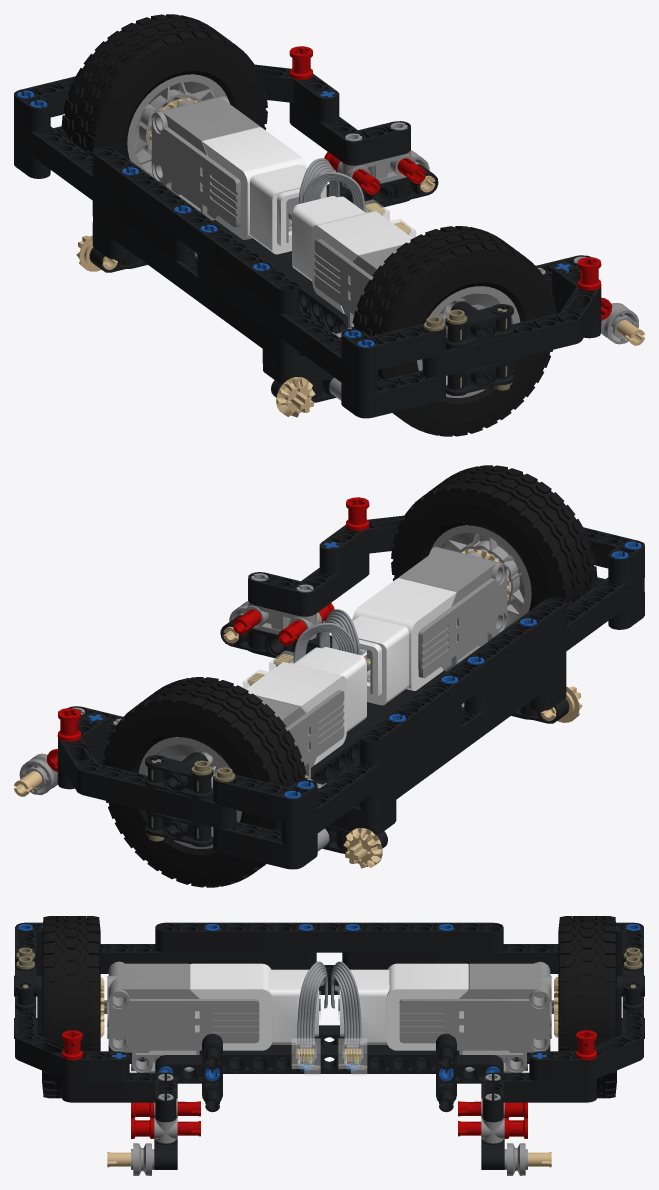
Rendered from scene_drive_base.glb.
3 renders of one model, top to bottom at view 1: azimuth 30°, elevation 25°; view 2: azimuth 150°, elevation 25°; view 3: azimuth 270°, elevation 25°, orthographic. The views are drawn at different scales.
Parts seen in each view (by area): view 1: ldraw_wrobot.ldr_16, lego_drive_base_0_wheel_0, lego_drive_base_0_wheel_1, lego_drive_base_cable_motor_m3, lego_drive_base_cable_motor_m2; view 2: ldraw_wrobot.ldr_16, lego_drive_base_0_wheel_1, lego_drive_base_0_wheel_0, lego_drive_base_cable_motor_m2, lego_drive_base_cable_motor_m3; view 3: ldraw_wrobot.ldr_16, lego_drive_base_0_wheel_0, lego_drive_base_0_wheel_1, lego_drive_base_cable_motor_m2, lego_drive_base_cable_motor_m3, lego_drive_base_plug_motor_m3, lego_drive_base_plug_motor_m2.
Boxes of the visible parts, x1,y1,x2,y2 form: ldraw_wrobot.ldr_16: [14, 46, 644, 418]; lego_drive_base_0_wheel_0: [351, 226, 556, 436]; lego_drive_base_0_wheel_1: [61, 14, 267, 177]; lego_drive_base_cable_motor_m3: [302, 171, 365, 211]; lego_drive_base_cable_motor_m2: [299, 158, 339, 203]; ldraw_wrobot.ldr_16: [14, 497, 644, 869]; lego_drive_base_0_wheel_1: [102, 677, 307, 887]; lego_drive_base_0_wheel_0: [391, 465, 597, 629]; lego_drive_base_cable_motor_m2: [293, 622, 356, 662]; lego_drive_base_cable_motor_m3: [319, 609, 359, 654]; ldraw_wrobot.ldr_16: [14, 922, 644, 1175]; lego_drive_base_0_wheel_0: [42, 916, 100, 1098]; lego_drive_base_0_wheel_1: [558, 916, 616, 1098]; lego_drive_base_cable_motor_m2: [331, 961, 361, 1044]; lego_drive_base_cable_motor_m3: [297, 961, 327, 1044]; lego_drive_base_plug_motor_m3: [291, 1038, 320, 1074]; lego_drive_base_plug_motor_m2: [338, 1038, 367, 1074].
Size of the model in its own units: 1.24 by 0.6264 by 2.16.
